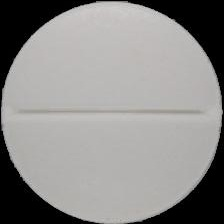0054-4527: (0, 0, 224, 224)
